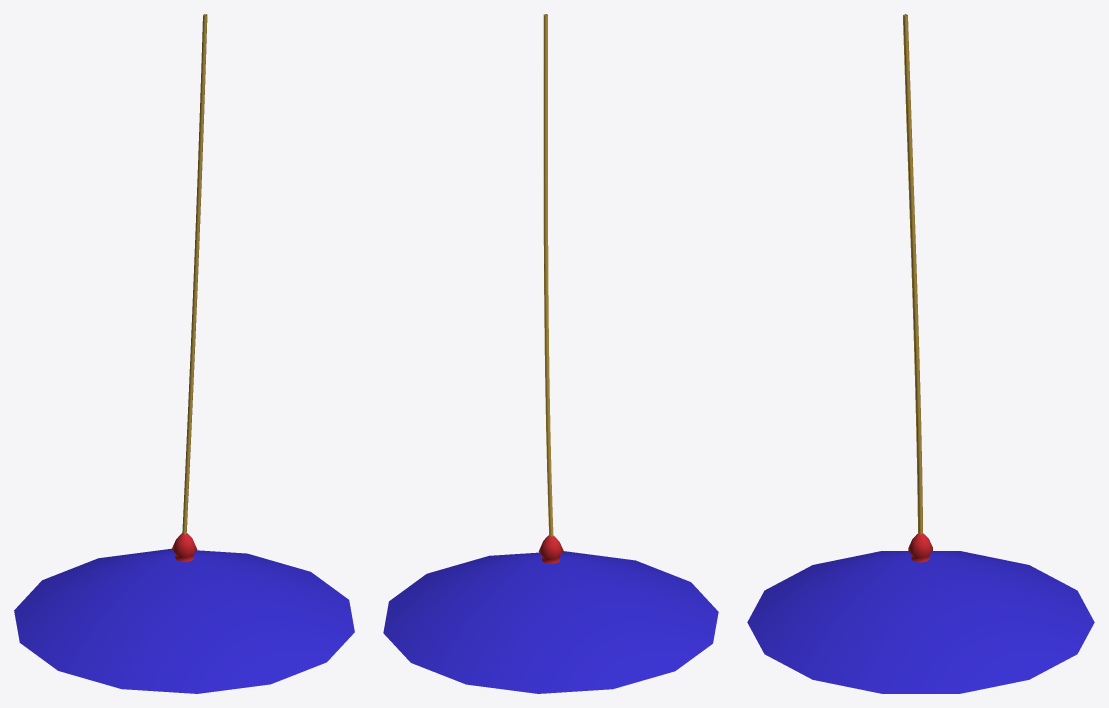
Rendered from Objeto_Lampada_Sala_Escura.fbx.
3 renders of one model, left to right at view 1: azimuth 30°, elevation 25°; view 2: azimuth 150°, elevation 25°; view 3: azimuth 270°, elevation 25°, orthographic. The views are drawn at different scales.
Parts seen in each view (by area): view 1: lampada; view 2: lampada; view 3: lampada.
Boxes of the visible parts, bbox=[...] form: lampada: bbox=[14, 14, 354, 693]; lampada: bbox=[383, 14, 718, 693]; lampada: bbox=[747, 14, 1094, 693].
Bounding box in the file's own units: 303 × 652 × 311.
